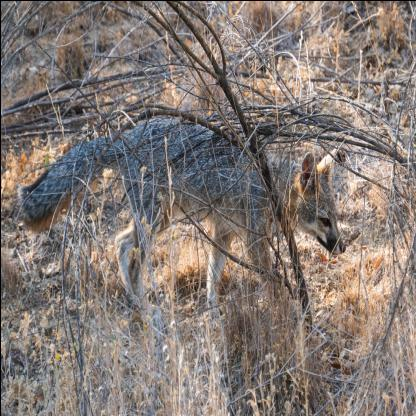zorro: (15, 105, 350, 332)
